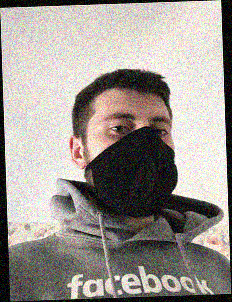with_mask: (90, 106, 178, 217)
